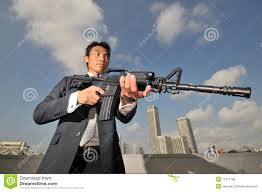rifle: (70, 71, 252, 120)
